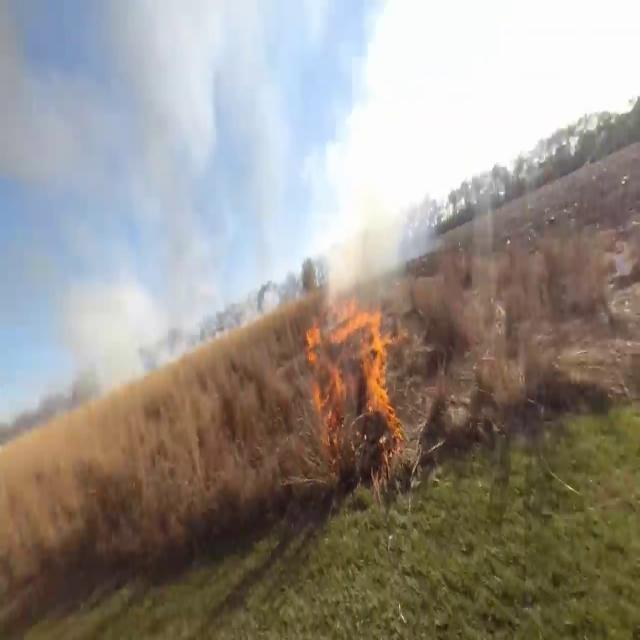Fire: (302, 284, 408, 463)
Smoke: (0, 1, 286, 450)
